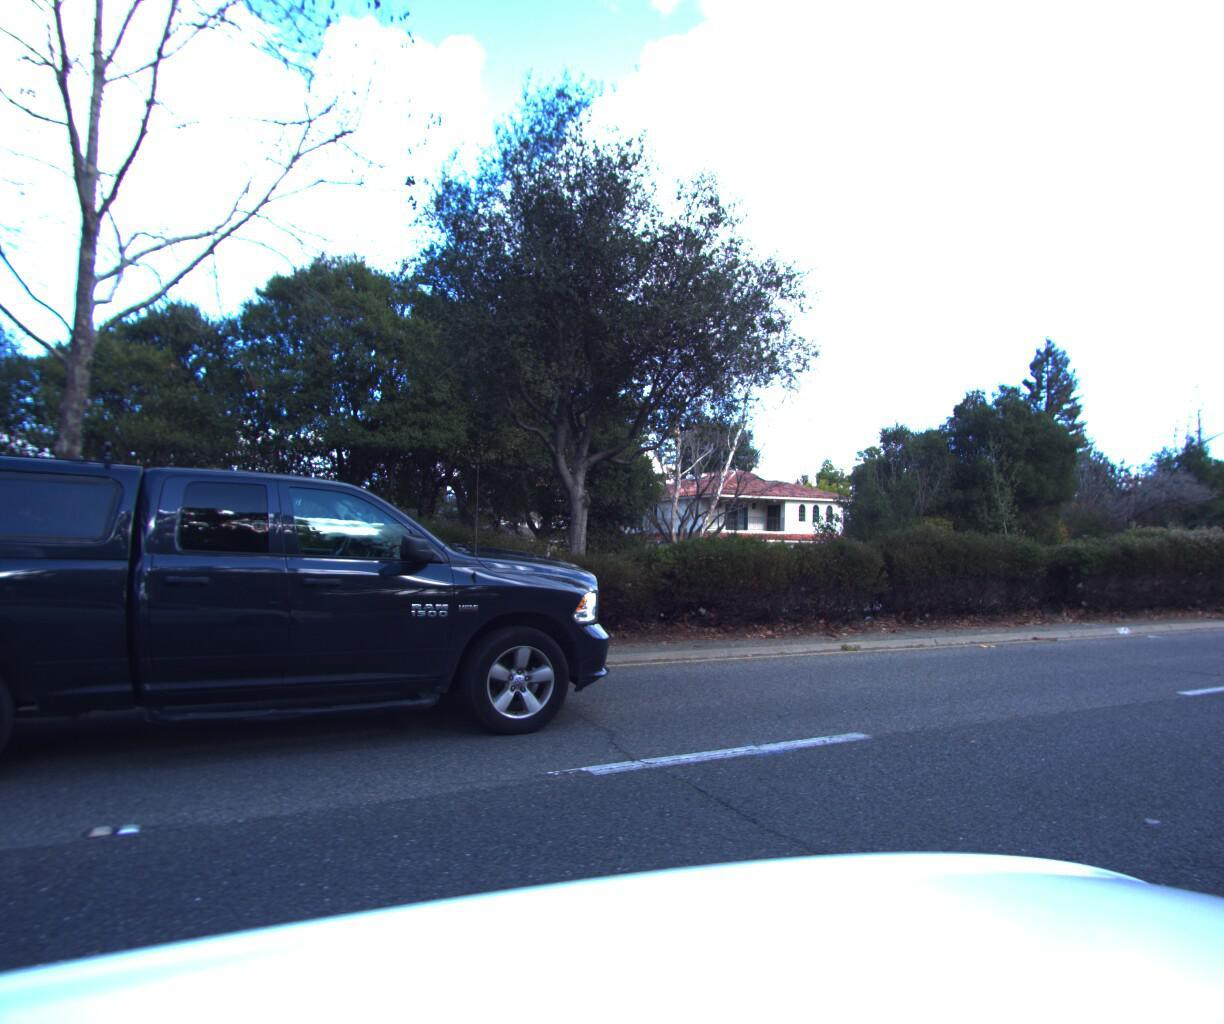car: (0, 405, 631, 834)
